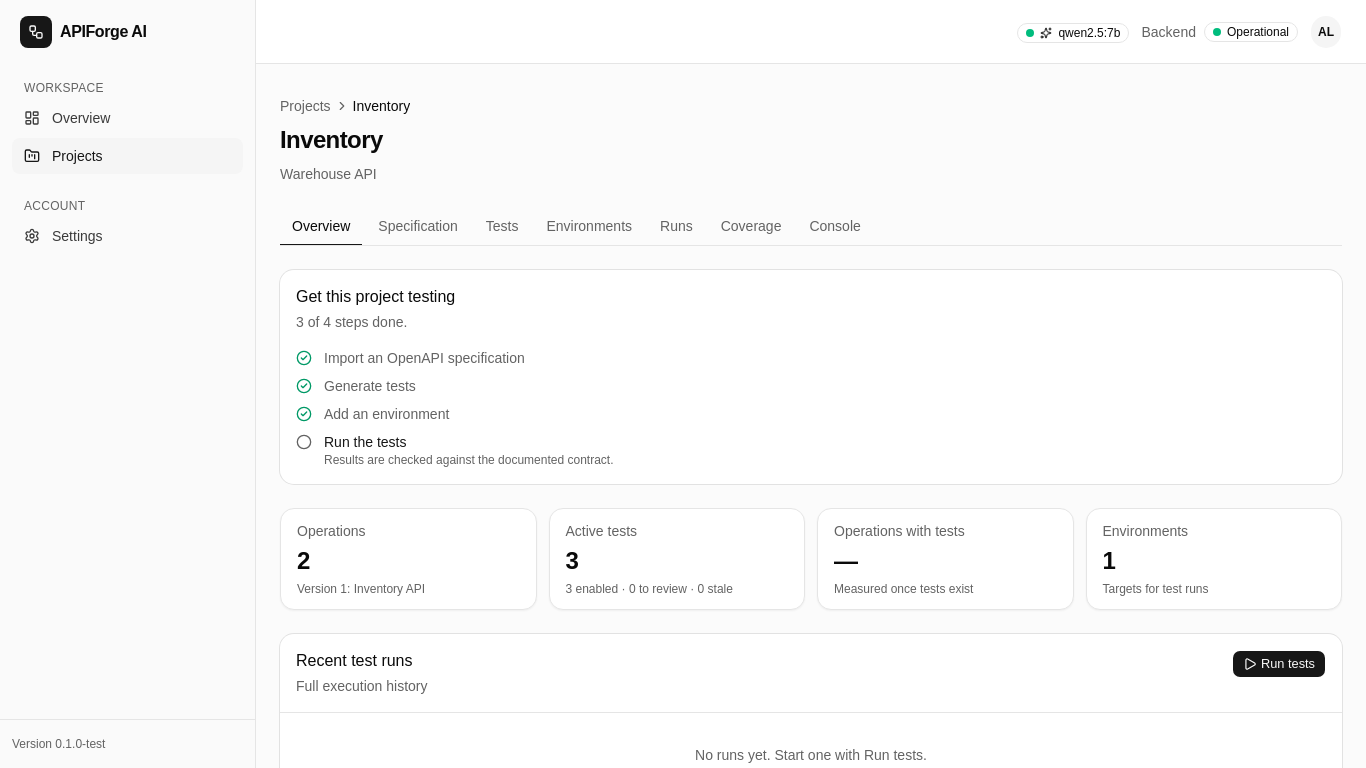
Test case: API error handling › reports a refused run start (rate limit) without leaving the dialog
Click the button "Run tests": (1279, 664) 1232,650 -> 1326,678
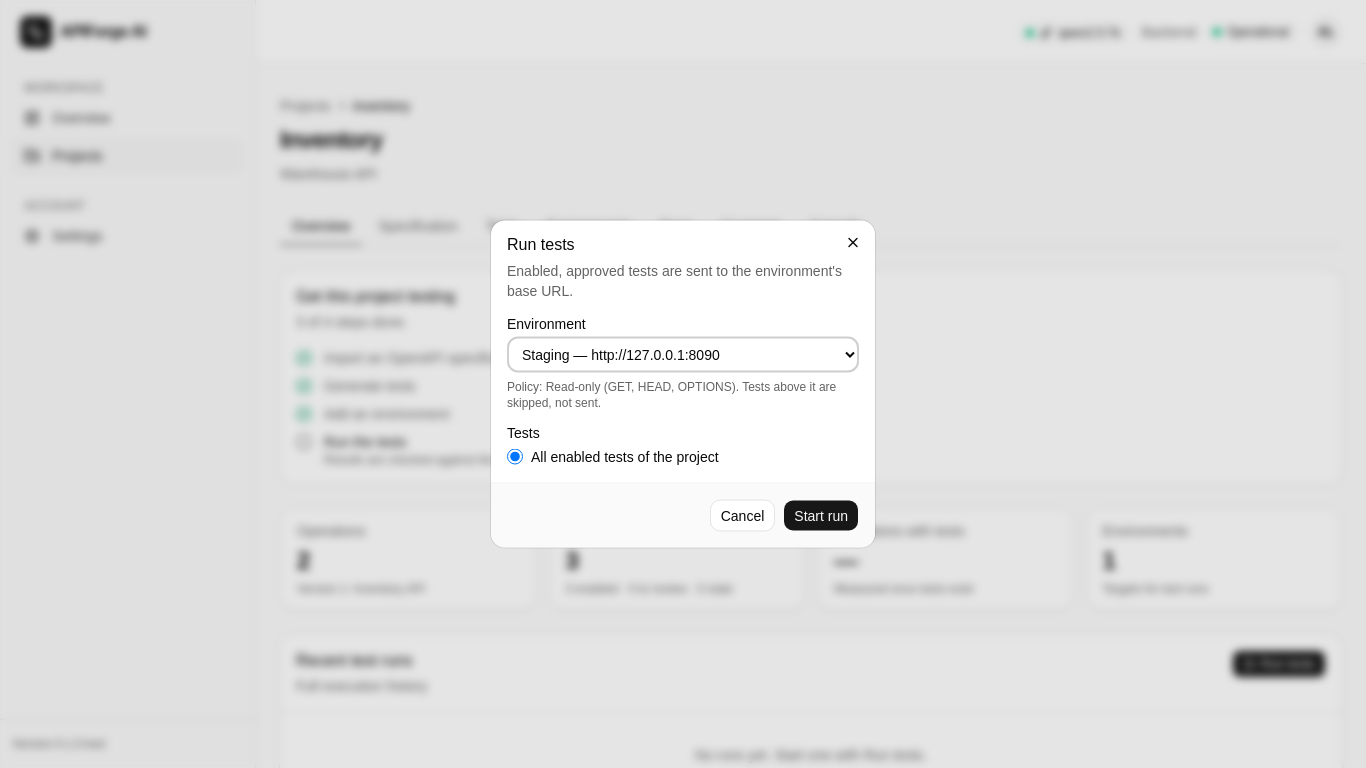
Click the button "Start run": (821, 516) 783,500 -> 859,532
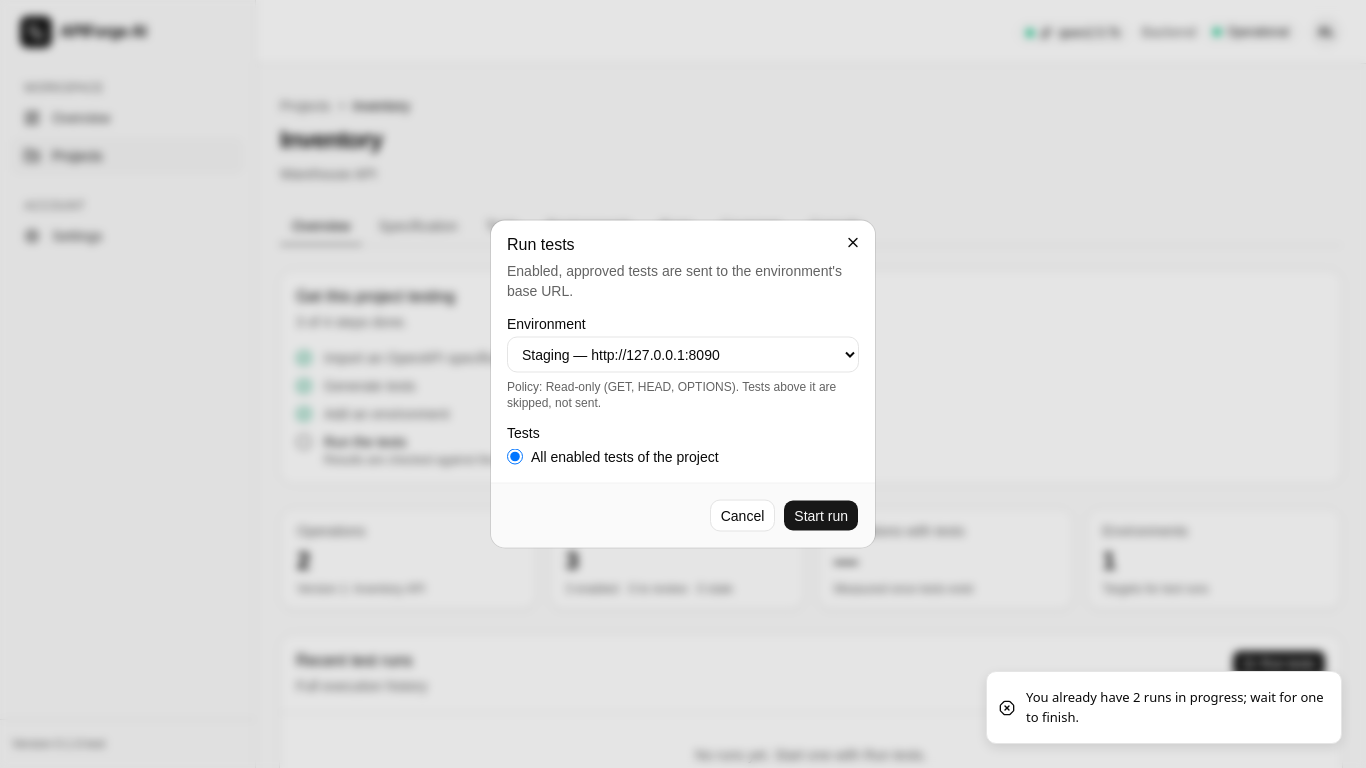
Now the dialog "Run tests" is shown, box 491,220 -> 875,548
Now the text "You already have 2 runs in progress; wait for one to finish." is shown, box 1026,688 -> 1325,727
